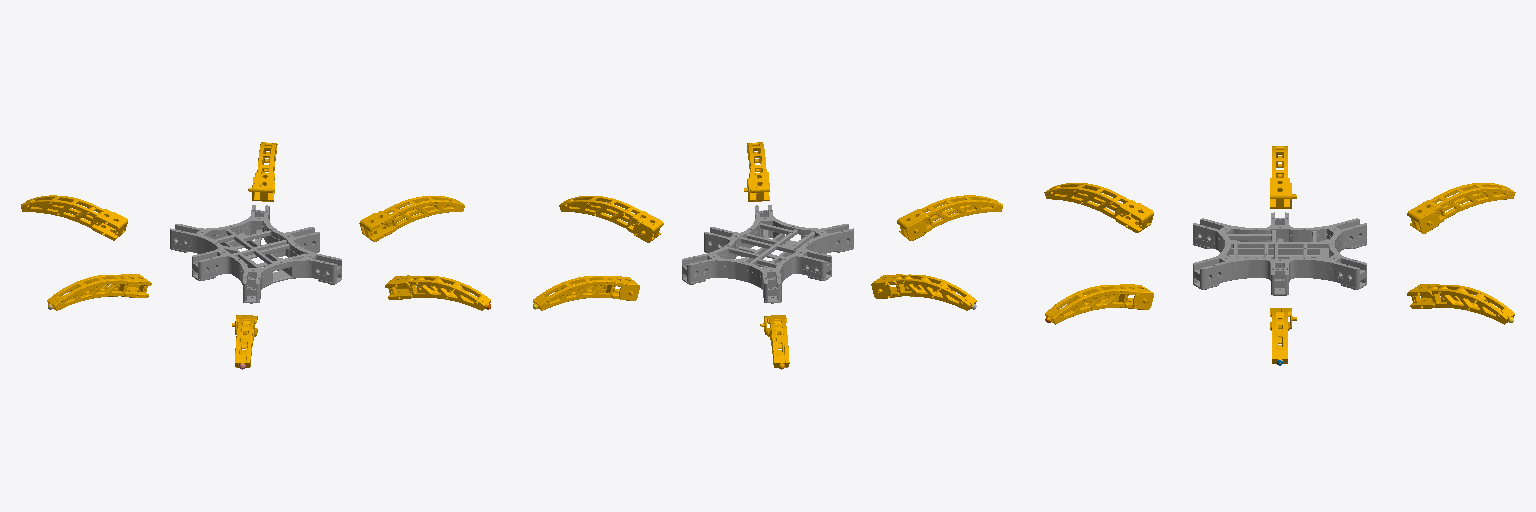
--- Facts derived from the render (not from the file) ---
3 views of the same robot in one strip: view 1: azimuth 30°, elevation 25°; view 2: azimuth 150°, elevation 25°; view 3: azimuth 270°, elevation 25° (orthographic).
Robot: onshape — 25 links, 24 joints (18 revolute, 6 fixed); root link bodyv2; default pose: every joint at zero.
Visible links, largest first — view 1: bodyv2, tibiav2-cp_l_3, tibiav2-cp_r_2, tibiav2-cp_r_3, tibiav2-cp_l_2, tibiav2-cp_r, tibiav2-cp_l; view 2: bodyv2, tibiav2-cp_l, tibiav2-cp_r_2, tibiav2-cp_r, tibiav2-cp_l_2, tibiav2-cp_r_3, tibiav2-cp_l_3; view 3: bodyv2, tibiav2-cp_l, tibiav2-cp_l_3, tibiav2-cp_r_3, tibiav2-cp_r, tibiav2-cp_l_2, tibiav2-cp_r_2.
Link boxes in pixels (x1,y1,x2,y2): bodyv2: (170,205,341,303); tibiav2-cp_l_3: (21,195,127,240); tibiav2-cp_r_2: (359,196,464,241); tibiav2-cp_r_3: (385,275,490,310); tibiav2-cp_l_2: (47,274,151,310); tibiav2-cp_r: (248,142,277,201); tibiav2-cp_l: (232,315,257,368); bodyv2: (682,205,853,303); tibiav2-cp_l: (897,195,1002,240); tibiav2-cp_r_2: (559,196,663,242); tibiav2-cp_r: (533,276,639,310); tibiav2-cp_l_2: (871,274,976,310); tibiav2-cp_r_3: (744,142,769,201); tibiav2-cp_l_3: (760,315,789,367); bodyv2: (1193,212,1366,295); tibiav2-cp_l: (1044,183,1153,232); tibiav2-cp_l_3: (1407,183,1515,233); tibiav2-cp_r_3: (1045,284,1153,324); tibiav2-cp_r: (1407,284,1514,324); tibiav2-cp_l_2: (1270,146,1296,208); tibiav2-cp_r_2: (1270,308,1296,363).
Bounding box of the posed robot: 1.03 × 0.9541 × 0.0658 m (x, y, z).
7 mesh visuals loaded from 7 distinct referenced files (3 OBJ); not drawn: 12 (reference not matched to a file when rendering).

The robot description file, URDF, robot "onshape":
<robot name="onshape">

    <!-- <link name="world"/>

    <joint name="fixed" type="fixed">
        <parent link="world"/>
        <child link="bodyv2"/>
    </joint> -->

    <link name="bodyv2">
        <visual>
            <origin xyz="0 0 0" rpy="0 -0 0" />
            <geometry>
                <mesh filename="../meshes/bodyv2.obj" />
            </geometry>
            <material name="bodyv2_material">
                <color
                    rgba="0.64705882352941179736 0.64705882352941179736 0.64705882352941179736 1.0" />
            </material>
        </visual>
        <collision>
            <origin rpy="0 0 0" xyz="0 0 0.0208"/>
            <geometry>
                <box size="0.154 0.224 0.0415"/>
            </geometry>
        </collision>
        <inertial>
            <origin
                xyz="-0.00016156646610776290531 0.0020690551697271782582 0.018635279603876668542"
                rpy="0 0 0" />
            <mass value="1.2037374722047951003" />
            <inertia ixx="0.010656763365604652108" ixy="1.1009035481021484386e-06"
                ixz="2.5007077941524114511e-06" iyy="0.0071653095044550470932"
                iyz="2.6102685037083721384e-05" izz="0.017431156217660285362" />
        </inertial>
    </link>



    <link name="coxav2-cp_r">
        <visual>
            <origin xyz="0.044924999999999687406 3.3841416545784007838e-16 0.015349999999999995592"
                rpy="-2.220446050594320057e-16 4.1572969705147401066e-27 7.478872514840289116e-17" />
            <geometry>
                <mesh filename="../meshes/coxav2-cp_r.obj" />
            </geometry>
            <material name="coxav2-cp_r_material">
                <color rgba="0.2313725490196078538 0.38039215686274507888 0.7058823529411765163 1.0" />
            </material>
        </visual>
        <collision>
            <origin xyz="0.0155 0.0 0.0246" rpy="0.0 0.0 0.0"/>
            <geometry>  
                <box size="0.09626568 0.0415 0.073"/>
            </geometry>
        </collision>
        <inertial>
            <origin xyz="0.030948537684062606828 0.0015279358057482558906 0.025335970459042220226"
                rpy="0 0 0" />
            <mass value="0.12884275139013859346" />
            <inertia ixx="0.00011011455913134015521" ixy="-2.8149219260561553808e-06"
                ixz="8.9250422527697492926e-06" iyy="0.00016056370782807269891"
                iyz="1.7135142885492474365e-06" izz="9.2722387824107529151e-05" />
        </inertial>
    </link>

    <link name="femurv2-cp_r">
        <visual>
            <origin xyz="0.11831370849898595332 -1.3877787807814456755e-17 0.025050000000000006289"
                rpy="-1.570796326794896336 2.3154521450840299509e-16 -1.8792258622622753027e-32" />
            <geometry>
                <mesh filename="../meshes/femurv2-cp_r.obj" />
            </geometry>
            <material name="femurv2-cp_r_material">
                <color
                    rgba="0.97254901960784312376 0.52941176470588235947 0.0039215686274509803377 1.0" />
            </material>
        </visual>
        <collision>
            <origin xyz="0.059156855 0.0 0.0246" rpy="0.0 0.0 0.0"/>
            <geometry>  
                <box size="0.156314 0.0415 0.073"/>
            </geometry>
        </collision>
        <inertial>
            <origin xyz="0.06082506750932465539 -1.5136200039238513742e-09 0.026970838378384598411"
                rpy="0 0 0" />
            <mass value="0.12070110637352102212" />
            <inertia ixx="0.00012336870256801971395" ixy="-3.2244334122795035788e-06"
                ixz="5.1376080092876681537e-07" iyy="0.00032491531984020667612"
                iyz="-2.1187797231752816524e-13" izz="0.00023604451059041267461" />
        </inertial>
    </link>

    <link name="tibiav2-cp_r">
        <visual>
            <origin xyz="0.22117075446837414221 0.00010480390885179644012 0.025250000000001146527"
                rpy="-1.5707963267948961139 2.0881301362003362234e-16 -2.4651903288156624393e-32" />
            <geometry>
                <mesh filename="../meshes/tibiav2-cp_r.obj" />
            </geometry>
            <material name="tibiav2-cp_r_material">
                <color
                    rgba="0.98039215686274505668 0.71372549019607844922 0.0039215686274509803377 1.0" />
            </material>
        </visual>
        <collision>
            <origin xyz="0.01352462339 0.003617258919 0.02509" rpy="0.0 0.0 0.26134120396 "/>
            <geometry>  
                <box size="0.0655 0.0415 0.0417"/>
            </geometry>
        </collision>
        <inertial>
            <origin xyz="0.082592297380876616986 0.012229493286894628848 0.024032647470113480126"
                rpy="0 0 0" />
            <mass value="0.16860990559390126586" />
            <inertia ixx="6.244932437467701897e-05" ixy="-5.8064365362945862654e-05"
                ixz="-1.6251472388168913152e-05" iyy="0.00086246462711135152366"
                iyz="-2.3947943719185567726e-06" izz="0.00087270111324797559112" />
        </inertial>
    </link>

    <joint name="FemurTibia1" type="revolute">
        <origin xyz="0.1183137084989848431 -1.9081958235744878039e-17 -4.1633363423443370266e-17"
            rpy="-1.6953482199534145611e-17 7.4923617708775792653e-17 5.551115123541516097e-17" />
        <parent link="femurv2-cp_r" />
        <child link="tibiav2-cp_r" />
        <axis xyz="0 0 1" />
        <limit effort="1" velocity="20" />
        <joint_properties friction="0.0" />
    </joint>

    <joint name="CoxaFemur1" type="revolute">
        <origin xyz="0.044924999999999853939 0.025050000000000370581 0.015349999999999990388"
            rpy="1.570796326794896336 4.1572979018096710656e-27 1.3525580482673391912e-16" />
        <parent link="coxav2-cp_r" />
        <child link="femurv2-cp_r" />
        <axis xyz="0 0 1" />
        <limit effort="1" velocity="20" />
        <joint_properties friction="0.0" />
    </joint>

    <joint name="BodyCoxa1" type="revolute">
        <origin xyz="0.098035026302704594836 0.15096070223017660217 -0.0045000000000000005274"
            rpy="0 -2.4651903296048737344e-32 0.99483767363676756101" />
        <parent link="bodyv2" />
        <child link="coxav2-cp_r" />
        <axis xyz="0 0 1" />
        <limit effort="1" velocity="20" />
        <joint_properties friction="0.0" />
    </joint>

    <link name="coxav2-cp_r_2">
        <visual>
            <origin xyz="0.044924999999999715161 3.2028130148349362021e-16 0.015349999999999995592"
                rpy="-2.220446050594320057e-16 4.1572969705147401066e-27 7.9187868350077541959e-59" />
            <geometry>
                <mesh filename="../meshes/coxav2-cp_r.obj" />
            </geometry>
            <material name="coxav2-cp_r_material">
                <color rgba="0.2313725490196078538 0.38039215686274507888 0.7058823529411765163 1.0" />
            </material>
        </visual>
        <collision>
            <origin xyz="0.0155 0.0 0.0246" rpy="0.0 0.0 0.0"/>
            <geometry>  
                <box size="0.09626568 0.0415 0.073"/>
            </geometry>
        </collision>
        <inertial>
            <origin xyz="0.030948537684062631115 0.001527935805748238977 0.025335970459042220226"
                rpy="0 0 0" />
            <mass value="0.12884275139013859346" />
            <inertia ixx="0.00011011455913134015521" ixy="-2.8149219260561706274e-06"
                ixz="8.9250422527697492926e-06" iyy="0.00016056370782807275312"
                iyz="1.713514288549247013e-06" izz="9.2722387824107529151e-05" />
        </inertial>
    </link>

    <link name="femurv2-cp_r_2">
        <visual>
            <origin xyz="0.11831370849898600883 -1.3877787807814456755e-17 0.025049999999999964656"
                rpy="-1.570796326794896336 2.8723936427800499152e-16 0" />
            <geometry>
                <mesh filename="../meshes/femurv2-cp_r.obj" />
            </geometry>
            <material name="femurv2-cp_r_material">
                <color
                    rgba="0.97254901960784312376 0.52941176470588235947 0.0039215686274509803377 1.0" />
            </material>
        </visual>
        <collision>
            <origin xyz="0.059156855 0.0 0.0246" rpy="0.0 0.0 0.0"/>
            <geometry>  
                <box size="0.156314 0.0415 0.073"/>
            </geometry>
        </collision>
        <inertial>
            <origin xyz="0.060825067509324703963 -1.5136200039238513742e-09 0.026970838378384560247"
                rpy="0 0 0" />
            <mass value="0.12070110637352102212" />
            <inertia ixx="0.00012336870256801976816" ixy="-3.2244334122795040023e-06"
                ixz="5.1376080092877952086e-07" iyy="0.00032491531984020667612"
                iyz="-2.1187797213794611325e-13" izz="0.00023604451059041272882" />
        </inertial>
    </link>

    <link name="tibiav2-cp_r_2">
        <visual>
            <origin xyz="0.22117075446837425323 0.00010480390885179644012 0.025250000000001143058"
                rpy="-1.5707963267948961139 2.3241406019702804199e-16 0" />
            <geometry>
                <mesh filename="../meshes/tibiav2-cp_r.obj" />
            </geometry>
            <material name="tibiav2-cp_r_material">
                <color
                    rgba="0.98039215686274505668 0.71372549019607844922 0.0039215686274509803377 1.0" />
            </material>
        </visual>
        <collision>
            <origin xyz="0.01352462339 0.003617258919 0.02509" rpy="0.0 0.0 0.26134120396 "/>
            <geometry>  
                <box size="0.0655 0.0415 0.0417"/>
            </geometry>
        </collision>
        <inertial>
            <origin xyz="0.082592297380876700252 0.012229493286894628848 0.024032647470113480126"
                rpy="0 0 0" />
            <mass value="0.16860990559390126586" />
            <inertia ixx="6.2449324374677046075e-05" ixy="-5.806436536294586943e-05"
                ixz="-1.6251472388168875882e-05" iyy="0.00086246462711135152366"
                iyz="-2.394794371918555502e-06" izz="0.00087270111324797580796" />
        </inertial>
    </link>

    <joint name="FemurTibia2" type="revolute">
        <origin xyz="0.11831370849898506514 0 0" rpy="0 5.8915479855140975462e-52 0" />
        <parent link="femurv2-cp_r_2" />
        <child link="tibiav2-cp_r_2" />
        <axis xyz="0 0 1" />
        <limit effort="1" velocity="20" />
        <joint_properties friction="0.0" />
    </joint>

    <joint name="CoxaFemur2" type="revolute">
        <origin xyz="0.044924999999999687406 0.025050000000000322009 0.015349999999999990388"
            rpy="1.570796326794896336 4.1572969705147401066e-27 1.1832913578315177081e-30" />
        <parent link="coxav2-cp_r_2" />
        <child link="femurv2-cp_r_2" />
        <axis xyz="0 0 1" />
        <limit effort="1" velocity="20" />
        <joint_properties friction="0.0" />
    </joint>

    <joint name="BodyCoxa2" type="revolute">
        <origin xyz="0.13000000000000000444 2.088607032214904854e-19 -0.0039000000000000006883"
            rpy="0 -0 -7.9187868350077541959e-59" />
        <parent link="bodyv2" />
        <child link="coxav2-cp_r_2" />
        <axis xyz="0 0 1" />
        <limit effort="1" velocity="20" />
        <joint_properties friction="0.0" />
    </joint>

    <link name="coxav2-cp_r_3">
        <visual>
            <origin xyz="0.044924999999999742917 3.257639905383399944e-16 0.015349999999999995592"
                rpy="-2.220446050594320057e-16 4.1572969705147401066e-27 8.040461820721662843e-17" />
            <geometry>
                <mesh filename="../meshes/coxav2-cp_r.obj" />
            </geometry>
            <material name="coxav2-cp_r_material">
                <color rgba="0.2313725490196078538 0.38039215686274507888 0.7058823529411765163 1.0" />
            </material>
        </visual>
        <collision>
            <origin xyz="0.0155 0.0 0.0246" rpy="0.0 0.0 0.0"/>
            <geometry>  
                <box size="0.09626568 0.0415 0.073"/>
            </geometry>
        </collision>
        <inertial>
            <origin xyz="0.03094853768406265887 0.0015279358057482433138 0.025335970459042220226"
                rpy="0 0 0" />
            <mass value="0.12884275139013859346" />
            <inertia ixx="0.00011011455913134015521" ixy="-2.8149219260561803683e-06"
                ixz="8.9250422527697492926e-06" iyy="0.00016056370782807275312"
                iyz="1.7135142885492476482e-06" izz="9.2722387824107529151e-05" />
        </inertial>
    </link>

    <link name="femurv2-cp_r_3">
        <visual>
            <origin xyz="0.11831370849898603659 -1.3877787807814456755e-17 0.025049999999999978534"
                rpy="-1.570796326794896336 2.8440316557020761339e-16 -3.5727006843363076696e-33" />
            <geometry>
                <mesh filename="../meshes/femurv2-cp_r.obj" />
            </geometry>
            <material name="femurv2-cp_r_material">
                <color
                    rgba="0.97254901960784312376 0.52941176470588235947 0.0039215686274509803377 1.0" />
            </material>
        </visual>
        <collision>
            <origin xyz="0.059156855 0.0 0.0246" rpy="0.0 0.0 0.0"/>
            <geometry>  
                <box size="0.156314 0.0415 0.073"/>
            </geometry>
        </collision>
        <inertial>
            <origin xyz="0.060825067509324710902 -1.5136200039238513742e-09 0.026970838378384574124"
                rpy="0 0 0" />
            <mass value="0.12070110637352102212" />
            <inertia ixx="0.00012336870256801982237" ixy="-3.2244334122795048494e-06"
                ixz="5.1376080092877920322e-07" iyy="0.00032491531984020667612"
                iyz="-2.118779721470912452e-13" izz="0.00023604451059041272882" />
        </inertial>
    </link>

    <link name="tibiav2-cp_r_3">
        <visual>
            <origin xyz="0.22117075446837430874 0.00010480390885179644012 0.025250000000001153466"
                rpy="-1.5707963267948961139 2.6140117956109480423e-16 -5.2039607354307863881e-33" />
            <geometry>
                <mesh filename="../meshes/tibiav2-cp_r.obj" />
            </geometry>
            <material name="tibiav2-cp_r_material">
                <color
                    rgba="0.98039215686274505668 0.71372549019607844922 0.0039215686274509803377 1.0" />
            </material>
        </visual>
        <collision>
            <origin xyz="0.01352462339 0.003617258919 0.02509" rpy="0.0 0.0 0.26134120396 "/>
            <geometry>  
                <box size="0.0655 0.0415 0.0417"/>
            </geometry>
        </collision>
        <inertial>
            <origin xyz="0.082592297380876755764 0.012229493286894628848 0.024032647470113490534"
                rpy="0 0 0" />
            <mass value="0.16860990559390126586" />
            <inertia ixx="6.2449324374677046075e-05" ixy="-5.806436536294586943e-05"
                ixz="-1.6251472388168777626e-05" iyy="0.00086246462711135152366"
                iyz="-2.394794371918553808e-06" izz="0.00087270111324797559112" />
        </inertial>
    </link>

    <joint name="FemurTibia3" type="revolute">
        <origin xyz="0.11831370849898475983 1.7347234759768070944e-18 1.3877787807814456755e-17"
            rpy="-3.4512664603419244591e-31 8.8134141193996676966e-17 3.2186500697891184772e-32" />
        <parent link="femurv2-cp_r_3" />
        <child link="tibiav2-cp_r_3" />
        <axis xyz="0 0 1" />
        <limit effort="1" velocity="20" />
        <joint_properties friction="0.0" />
    </joint>

    <joint name="CoxaFemur3" type="revolute">
        <origin xyz="0.044924999999999604139 0.025050000000000294254 0.015349999999999992123"
            rpy="1.570796326794896336 4.1572979018096681958e-27 5.5624975971851880972e-17" />
        <parent link="coxav2-cp_r_3" />
        <child link="femurv2-cp_r_3" />
        <axis xyz="0 0 1" />
        <limit effort="1" velocity="20" />
        <joint_properties friction="0.0" />
    </joint>

    <joint name="BodyCoxa3" type="revolute">
        <origin xyz="0.09803502630270488627 -0.1509607022301762691 -0.0044999999999999987926"
            rpy="-1.9721522630525295135e-31 -7.8921129510773646455e-42 -0.99483767363676967044" />
        <parent link="bodyv2" />
        <child link="coxav2-cp_r_3" />
        <axis xyz="0 0 1" />
        <limit effort="1" velocity="20" />
        <joint_properties friction="0.0" />
    </joint>

    <link name="coxav2-cp_l">
        <visual>
            <origin xyz="0.044924999999999687406 -3.201838345771710557e-16 0.015349999999999995592"
                rpy="-2.220446050594320057e-16 -4.1572969705147401066e-27 -3.141592653589793116" />
            <geometry>
                <mesh filename="../meshes/coxav2-cp_l.obj" />
            </geometry>
            <material name="coxav2-cp_l_material">
                <color rgba="0.2313725490196078538 0.38039215686274507888 0.7058823529411765163 1.0" />
            </material>
        </visual>
        <collision>
            <origin xyz="0.0155 0.0 0.0246" rpy="0.0 0.0 0.0"/>
            <geometry>  
                <box size="0.09626568 0.0415 0.073"/>
            </geometry>
        </collision>
        <inertial>
            <origin xyz="0.030948330328326324051 -0.0015279350267063975238 0.025335805878510614386"
                rpy="0 0 0" />
            <mass value="0.12884168129204809361" />
            <inertia ixx="0.00011011326055947715961" ixy="2.8148565689187824999e-06"
                ixz="8.9253727001102267164e-06" iyy="0.00016056187126428921345"
                iyz="-1.7132149842332346516e-06" izz="9.2721677711425317704e-05" />
        </inertial>
    </link>

    <link name="femurv2-cp_l">
        <visual>
            <origin xyz="0.11831370849898598108 1.3877787807814456755e-17 0.025049999999999988942"
                rpy="-1.570796326794896336 -2.1434928901735174212e-16 -3.141592653589793116" />
            <geometry>
                <mesh filename="../meshes/femurv2-cp_l.obj" />
            </geometry>
            <material name="femurv2-cp_l_material">
                <color
                    rgba="0.97254901960784312376 0.52941176470588235947 0.0039215686274509803377 1.0" />
            </material>
        </visual>
        <collision>
            <origin xyz="0.059156855 0.0 0.0246" rpy="0.0 0.0 0.0"/>
            <geometry>  
                <box size="0.156314 0.0415 0.073"/>
            </geometry>
        </collision>
        <inertial>
            <origin xyz="0.060825060358375086789 2.5728453038989989627e-09 0.026970844356125546482"
                rpy="0 0 0" />
            <mass value="0.12070103811634615154" />
            <inertia ixx="0.00012336867803479324365" ixy="3.2244249879171339253e-06"
                ixz="5.1375358470081635524e-07" iyy="0.00032491528790824406817"
                iyz="3.3631755549265157386e-12" izz="0.00023604448941317229338" />
        </inertial>
    </link>

    <link name="tibiav2-cp_l">
        <visual>
            <origin xyz="0.22117075446837430874 -0.00010480390885179644012 0.025250000000001122241"
                rpy="-1.5707963267948961139 -2.9768346214442543876e-16 3.141592653589793116" />
            <geometry>
                <mesh filename="../meshes/tibiav2-cp_l.obj" />
            </geometry>
            <material name="tibiav2-cp_l_material">
                <color
                    rgba="0.98039215686274505668 0.71372549019607844922 0.0039215686274509803377 1.0" />
            </material>
        </visual>
        <collision>
            <origin xyz="0.01352462339 0.003617258919 0.02509" rpy="0.0 0.0 0.26134120396 "/>
            <geometry>  
                <box size="0.0655 0.0415 0.0417"/>
            </geometry>
        </collision>
        <inertial>
            <origin xyz="0.082592290189909739473 -0.012229487075237986671 0.024032591894866818516"
                rpy="0 0 0" />
            <mass value="0.16860992998600971005" />
            <inertia ixx="6.2449347675464560799e-05" ixy="5.8064455622301218104e-05"
                ixz="-1.6251800133231701986e-05" iyy="0.00086246474699329129382"
                iyz="2.394828232458152766e-06" izz="0.00087270127201055560512" />
        </inertial>
    </link>

    <joint name="FemurTibia4" type="revolute">
        <origin xyz="0.11831370849898503739 -3.4694469519536141888e-18 -4.5102810375396984455e-17"
            rpy="0 5.277176377065159758e-17 -1.2797962189837723024e-32" />
        <parent link="femurv2-cp_l" />
        <child link="tibiav2-cp_l" />
        <axis xyz="0 0 -1" />
        <limit effort="1" velocity="20" />
        <joint_properties friction="0.0" />
    </joint>

    <joint name="CoxaFemur4" type="revolute">
        <origin xyz="0.044924999999999770672 -0.025050000000000297723 0.01534999999999997651"
            rpy="-1.570796326794896336 4.1572948203217621985e-27 4.8473574358091203186e-17" />
        <parent link="coxav2-cp_l" />
        <child link="femurv2-cp_l" />
        <axis xyz="0 0 -1" />
        <limit effort="1" velocity="20" />
        <joint_properties friction="0.0" />
    </joint>

    <joint name="BodyCoxa4" type="revolute">
        <origin xyz="-0.09803502630270369278 -0.15096070223017762912 -0.0044999999999999970579"
            rpy="-4.9303806576313237838e-32 -7.8921129510773735669e-42 -2.1467549799530263321" />
        <parent link="bodyv2" />
        <child link="coxav2-cp_l" />
        <axis xyz="0 0 1" />
        <limit effort="1" velocity="20" />
        <joint_properties friction="0.0" />
    </joint>

    <link name="coxav2-cp_l_2">
        <visual>
            <origin xyz="0.044924999999999715161 -3.2028130148349366951e-16 0.015349999999999995592"
                rpy="-2.220446050594320057e-16 -4.1572969705147401066e-27 3.141592653589793116" />
            <geometry>
                <mesh filename="../meshes/coxav2-cp_l.obj" />
            </geometry>
            <material name="coxav2-cp_l_material">
                <color rgba="0.2313725490196078538 0.38039215686274507888 0.7058823529411765163 1.0" />
            </material>
        </visual>
        <collision>
            <origin xyz="0.0155 0.0 0.0246" rpy="0.0 0.0 0.0"/>
            <geometry>  
                <box size="0.09626568 0.0415 0.073"/>
            </geometry>
        </collision>
        <inertial>
            <origin xyz="0.030948330328326358746 -0.0015279350267063966564 0.025335805878510614386"
                rpy="0 0 0" />
            <mass value="0.12884168129204809361" />
            <inertia ixx="0.00011011326055947715961" ixy="2.8148565689187634416e-06"
                ixz="8.9253727001102267164e-06" iyy="0.00016056187126428921345"
                iyz="-1.7132149842332352868e-06" izz="9.2721677711425317704e-05" />
        </inertial>
    </link>

    <link name="femurv2-cp_l_2">
        <visual>
            <origin xyz="0.11831370849898600883 1.3877787807814456755e-17 0.025049999999999964656"
                rpy="-1.570796326794896336 -2.8723936427800499152e-16 3.141592653589793116" />
            <geometry>
                <mesh filename="../meshes/femurv2-cp_l.obj" />
            </geometry>
            <material name="femurv2-cp_l_material">
                <color
                    rgba="0.97254901960784312376 0.52941176470588235947 0.0039215686274509803377 1.0" />
            </material>
        </visual>
        <collision>
            <origin xyz="0.059156855 0.0 0.0246" rpy="0.0 0.0 0.0"/>
            <geometry>  
                <box size="0.156314 0.0415 0.073"/>
            </geometry>
        </collision>
        <inertial>
            <origin xyz="0.060825060358375114544 2.5728453038989989627e-09 0.026970844356125525665"
                rpy="0 0 0" />
            <mass value="0.12070103811634615154" />
            <inertia ixx="0.00012336867803479324365" ixy="3.2244249879171339253e-06"
                ixz="5.1375358470080110865e-07" iyy="0.00032491528790824406817"
                iyz="3.3631755546914869886e-12" izz="0.00023604448941317229338" />
        </inertial>
    </link>

    <link name="tibiav2-cp_l_2">
        <visual>
            <origin xyz="0.22117075446837425323 -0.00010480390885179644012 0.025250000000001143058"
                rpy="-1.5707963267948961139 -2.3241406019702804199e-16 3.141592653589793116" />
            <geometry>
                <mesh filename="../meshes/tibiav2-cp_l.obj" />
            </geometry>
            <material name="tibiav2-cp_l_material">
                <color
                    rgba="0.98039215686274505668 0.71372549019607844922 0.0039215686274509803377 1.0" />
            </material>
        </visual>
        <collision>
            <origin xyz="0.01352462339 0.003617258919 0.02509" rpy="0.0 0.0 0.26134120396 "/>
            <geometry>  
                <box size="0.0655 0.0415 0.0417"/>
            </geometry>
        </collision>
        <inertial>
            <origin xyz="0.082592290189909656206 -0.012229487075237986671 0.024032591894866835863"
                rpy="0 0 0" />
            <mass value="0.16860992998600971005" />
            <inertia ixx="6.2449347675464587904e-05" ixy="5.806445562230122488e-05"
                ixz="-1.6251800133231674881e-05" iyy="0.00086246474699329129382"
                iyz="2.3948282324581565777e-06" izz="0.00087270127201055560512" />
        </inertial>
    </link>

    <joint name="FemurTibia5" type="revolute">
        <origin xyz="0.11831370849898506514 0 0" rpy="0 5.8915479855140975462e-52 0" />
        <parent link="femurv2-cp_l_2" />
        <child link="tibiav2-cp_l_2" />
        <axis xyz="0 0 -1" />
        <limit effort="1" velocity="20" />
        <joint_properties friction="0.0" />
    </joint>

    <joint name="CoxaFemur5" type="revolute">
        <origin xyz="0.044924999999999687406 -0.025050000000000325479 0.015349999999999990388"
            rpy="-1.570796326794896336 4.1572969705147401066e-27 -1.1832913578315177081e-30" />
        <parent link="coxav2-cp_l_2" />
        <child link="femurv2-cp_l_2" />
        <axis xyz="0 0 -1" />
        <limit effort="1" velocity="20" />
        <joint_properties friction="0.0" />
    </joint>

    <joint name="BodyCoxa5" type="revolute">
        <origin xyz="-0.13000000000000000444 -1.5987725032784004981e-15 -0.0045000000000000005274"
            rpy="0 -0 -3.141592653589793116" />
        <parent link="bodyv2" />
        <child link="coxav2-cp_l_2" />
        <axis xyz="0 0 1" />
        <limit effort="1" velocity="20" />
        <joint_properties friction="0.0" />
    </joint>

    <link name="coxav2-cp_l_3">
        <visual>
            <origin xyz="0.044924999999999715161 -3.1913241041673734937e-16 0.015349999999999995592"
                rpy="-2.220446050594320057e-16 -4.1572969705147401066e-27 -3.141592653589793116" />
            <geometry>
                <mesh filename="../meshes/coxav2-cp_l.obj" />
            </geometry>
            <material name="coxav2-cp_l_material">
                <color rgba="0.2313725490196078538 0.38039215686274507888 0.7058823529411765163 1.0" />
            </material>
        </visual>
        <collision>
            <origin xyz="0.0155 0.0 0.0246" rpy="0.0 0.0 0.0"/>
            <geometry>  
                <box size="0.09626568 0.0415 0.073"/>
            </geometry>
        </collision>
        <inertial>
            <origin xyz="0.030948330328326358746 -0.0015279350267063962227 0.025335805878510614386"
                rpy="0 0 0" />
            <mass value="0.12884168129204809361" />
            <inertia ixx="0.00011011326055947715961" ixy="2.8148565689187676768e-06"
                ixz="8.9253727001102267164e-06" iyy="0.00016056187126428915924"
                iyz="-1.7132149842332346516e-06" izz="9.2721677711425317704e-05" />
        </inertial>
    </link>

    <link name="femurv2-cp_l_3">
        <visual>
            <origin xyz="0.11831370849898598108 1.3877787807814456755e-17 0.025049999999999957717"
                rpy="-1.570796326794896336 -2.9683333007343419924e-16 3.141592653589793116" />
            <geometry>
                <mesh filename="../meshes/femurv2-cp_l.obj" />
            </geometry>
            <material name="femurv2-cp_l_material">
                <color
                    rgba="0.97254901960784312376 0.52941176470588235947 0.0039215686274509803377 1.0" />
            </material>
        </visual>
        <collision>
            <origin xyz="0.059156855 0.0 0.0246" rpy="0.0 0.0 0.0"/>
            <geometry>  
                <box size="0.156314 0.0415 0.073"/>
            </geometry>
        </collision>
        <inertial>
            <origin xyz="0.060825060358375086789 2.5728453038989989627e-09 0.026970844356125518726"
                rpy="0 0 0" />
            <mass value="0.12070103811634615154" />
            <inertia ixx="0.00012336867803479324365" ixy="3.2244249879171339253e-06"
                ixz="5.137535847007947559e-07" iyy="0.00032491528790824406817"
                iyz="3.3631755546605521301e-12" izz="0.00023604448941317229338" />
        </inertial>
    </link>

    <link name="tibiav2-cp_l_3">
        <visual>
            <origin xyz="0.22117075446837425323 -0.00010480390885179644012 0.025250000000001143058"
                rpy="-1.5707963267948961139 -2.9683333007343419924e-16 3.141592653589793116" />
            <geometry>
                <mesh filename="../meshes/tibiav2-cp_l.obj" />
            </geometry>
            <material name="tibiav2-cp_l_material">
                <color
                    rgba="0.98039215686274505668 0.71372549019607844922 0.0039215686274509803377 1.0" />
            </material>
        </visual>
        <collision>
            <origin xyz="0.01352462339 0.003617258919 0.02509" rpy="0.0 0.0 0.26134120396 "/>
            <geometry>  
                <box size="0.0655 0.0415 0.0417"/>
            </geometry>
        </collision>
        <inertial>
            <origin xyz="0.082592290189909656206 -0.012229487075237986671 0.024032591894866839333"
                rpy="0 0 0" />
            <mass value="0.16860992998600971005" />
            <inertia ixx="6.2449347675464587904e-05" ixy="5.806445562230122488e-05"
                ixz="-1.6251800133231651164e-05" iyy="0.00086246474699329129382"
                iyz="2.394828232458152766e-06" izz="0.00087270127201055560512" />
        </inertial>
    </link>

    <joint name="FemurTibia6" type="revolute">
        <origin xyz="0.11831370849898503739 -3.4694469519536141888e-18 -4.1633363423443370266e-17"
            rpy="0 1.4321645470071863198e-17 -8.3370216344272758499e-33" />
        <parent link="femurv2-cp_l_3" />
        <child link="tibiav2-cp_l_3" />
        <axis xyz="0 0 -1" />
        <limit effort="1" velocity="20" />
        <joint_properties friction="0.0" />
    </joint>

    <joint name="CoxaFemur6" type="revolute">
        <origin xyz="0.044924999999999770672 -0.025050000000000283845 0.015350000000000004266"
            rpy="-1.570796326794896336 4.1572979018096717831e-27 5.3671757578478919314e-18" />
        <parent link="coxav2-cp_l_3" />
        <child link="femurv2-cp_l_3" />
        <axis xyz="0 0 -1" />
        <limit effort="1" velocity="20" />
        <joint_properties friction="0.0" />
    </joint>

    <joint name="BodyCoxa6" type="revolute">
        <origin xyz="-0.098035026302705066681 0.1509607022301762691 -0.0044999999999999970579"
            rpy="0 -1.2325951651970425148e-32 2.146754979953025444" />
        <parent link="bodyv2" />
        <child link="coxav2-cp_l_3" />
        <axis xyz="0 0 1" />
        <limit effort="1" velocity="20" />
        <joint_properties friction="0.0" />
    </joint>

    <link name="Foot1">
        <visual name="">
            <origin xyz="0.215305 0.0025 0.025250000000001146527" rpy="0.0 0.0 0.0"/>
            <geometry>
                <sphere radius="0.00663587"/>
            </geometry>
        </visual>
        <collision>
            <origin xyz="0.215305 0.0025 0.025250000000001146527" rpy="0.0 0.0 0.0"/>
            <geometry>
                <sphere radius="0.00663587"/>
            </geometry>
        </collision>
    </link>

    <joint name="Foot1" type="fixed">
        <origin xyz="0.0 0.0 0.0" rpy="0.0 0.0 0.0"/>
        <parent link="tibiav2-cp_r"/>
        <child link="Foot1"/>
        <axis xyz="0.0 0.0 0.0"/>
    </joint>

    <link name="Foot2">
        <visual name="">
            <origin xyz="0.215305 0.0025 0.025250000000001146527" rpy="0.0 0.0 0.0"/>
            <geometry>
                <sphere radius="0.00663587"/>
            </geometry>
        </visual>
        <collision>
            <origin xyz="0.215305 0.0025 0.025250000000001146527" rpy="0.0 0.0 0.0"/>
            <geometry>
                <sphere radius="0.00663587"/>
            </geometry>
        </collision>
    </link>

    <joint name="Foot2" type="fixed">
        <origin xyz="0.0 0.0 0.0" rpy="0.0 0.0 0.0"/>
        <parent link="tibiav2-cp_r_2"/>
        <child link="Foot2"/>
        <axis xyz="0.0 0.0 0.0"/>
    </joint>

    <link name="Foot3">
        <visual name="">
            <origin xyz="0.215305 0.0025 0.025250000000001146527" rpy="0.0 0.0 0.0"/>
            <geometry>
                <sphere radius="0.00663587"/>
            </geometry>
        </visual>
        <collision>
            <origin xyz="0.215305 0.0025 0.025250000000001146527" rpy="0.0 0.0 0.0"/>
            <geometry>
                <sphere radius="0.00663587"/>
            </geometry>
        </collision>
    </link>

    <joint name="Foot3" type="fixed">
        <origin xyz="0.0 0.0 0.0" rpy="0.0 0.0 0.0"/>
        <parent link="tibiav2-cp_r_3"/>
        <child link="Foot3"/>
        <axis xyz="0.0 0.0 0.0"/>
    </joint>

    <link name="Foot4">
        <visual name="">
            <origin xyz="0.215305 -0.0025 0.025250000000001146527" rpy="0.0 0.0 0.0"/>
            <geometry>
                <sphere radius="0.00663587"/>
            </geometry>
        </visual>
        <collision>
            <origin xyz="0.215305 -0.0025 0.025250000000001146527" rpy="0.0 0.0 0.0"/>
            <geometry>
                <sphere radius="0.00663587"/>
            </geometry>
        </collision>
    </link>

    <joint name="Foot4" type="fixed">
        <origin xyz="0.0 0.0 0.0" rpy="0.0 0.0 0.0"/>
        <parent link="tibiav2-cp_l"/>
        <child link="Foot4"/>
        <axis xyz="0.0 0.0 0.0"/>
    </joint>

    <link name="Foot5">
        <visual name="">
            <origin xyz="0.215305 -0.0025 0.025250000000001146527" rpy="0.0 0.0 0.0"/>
            <geometry>
                <sphere radius="0.00663587"/>
            </geometry>
        </visual>
        <collision>
            <origin xyz="0.215305 -0.0025 0.025250000000001146527" rpy="0.0 0.0 0.0"/>
            <geometry>
                <sphere radius="0.00663587"/>
            </geometry>
        </collision>
    </link>

    <joint name="Foot5" type="fixed">
        <origin xyz="0.0 0.0 0.0" rpy="0.0 0.0 0.0"/>
        <parent link="tibiav2-cp_l_2"/>
        <child link="Foot5"/>
        <axis xyz="0.0 0.0 0.0"/>
    </joint>

    <link name="Foot6">
        <visual name="">
            <origin xyz="0.215305 -0.0025 0.025250000000001146527" rpy="0.0 0.0 0.0"/>
            <geometry>
                <sphere radius="0.00663587"/>
            </geometry>
        </visual>
        <collision>
            <origin xyz="0.215305 -0.0025 0.025250000000001146527" rpy="0.0 0.0 0.0"/>
            <geometry>
                <sphere radius="0.00663587"/>
            </geometry>
        </collision>
    </link>

    <joint name="Foot6" type="fixed">
        <origin xyz="0.0 0.0 0.0" rpy="0.0 0.0 0.0"/>
        <parent link="tibiav2-cp_l_3"/>
        <child link="Foot6"/>
        <axis xyz="0.0 0.0 0.0"/>
    </joint>
</robot>
